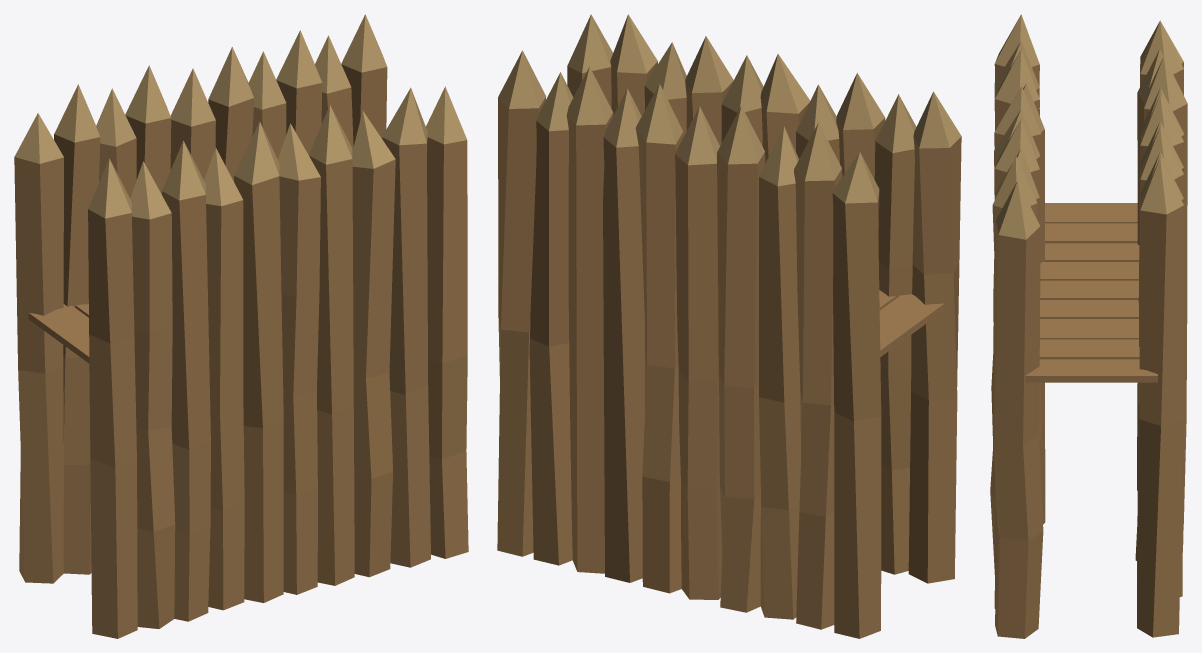
Rendered from castle-wood_wall.fbx.
3 renders of one model, left to right at view 1: azimuth 30°, elevation 25°; view 2: azimuth 150°, elevation 25°; view 3: azimuth 270°, elevation 25°, orthographic. The views are drawn at different scales.
Parts seen in each view (by area): view 1: castle-wood_wall; view 2: castle-wood_wall; view 3: castle-wood_wall.
Part boxes in pixels (left/top/right/bottom): castle-wood_wall: left=14, top=14, right=468, bottom=638; castle-wood_wall: left=497, top=14, right=961, bottom=638; castle-wood_wall: left=990, top=14, right=1187, bottom=638.
Bounding box in the file's own units: 3.03 × 3.73 × 1.42.
